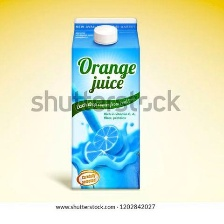carton: (67, 16, 144, 193)
